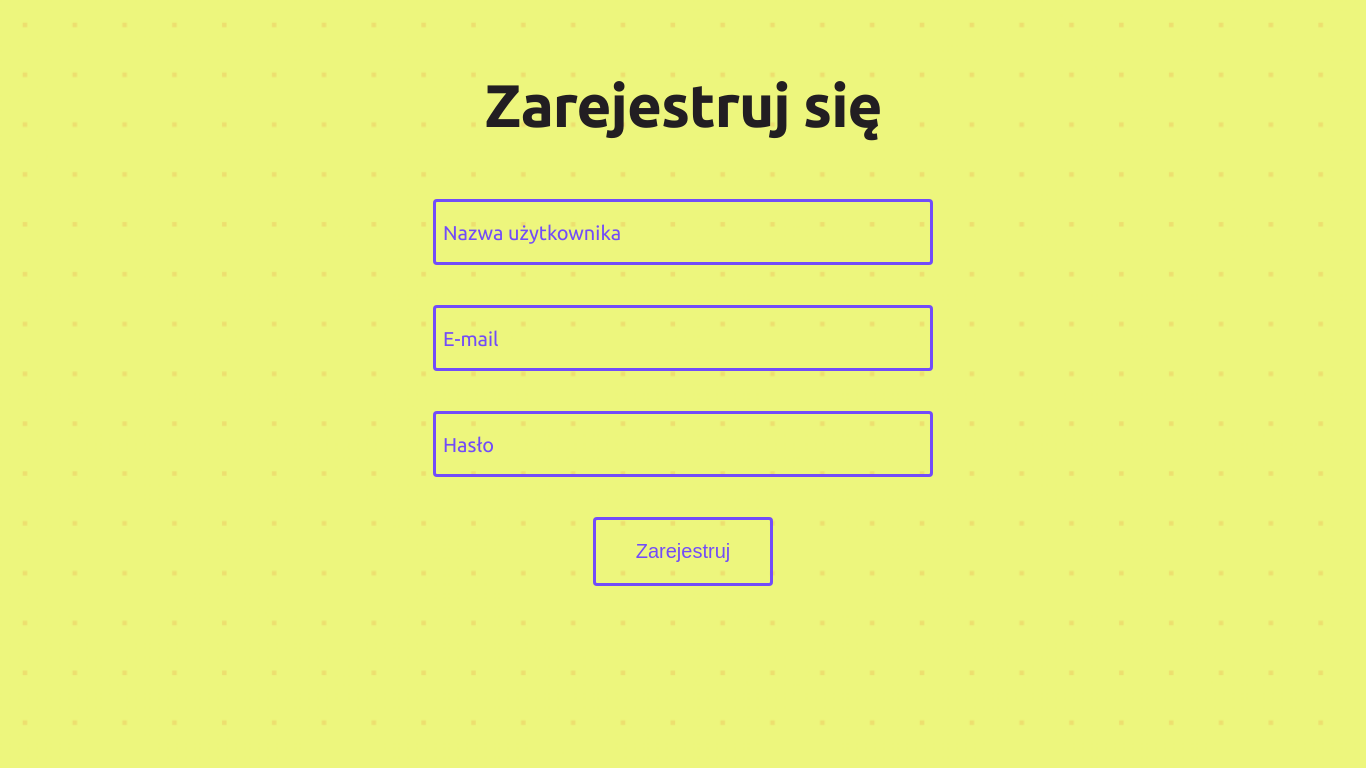
Test: Register Page › displays error message if registration fails
The width and height of the screenshot is (1366, 768).
Type "testUser" into the field named "nickname" at (683, 232), box [433,199,933,265]
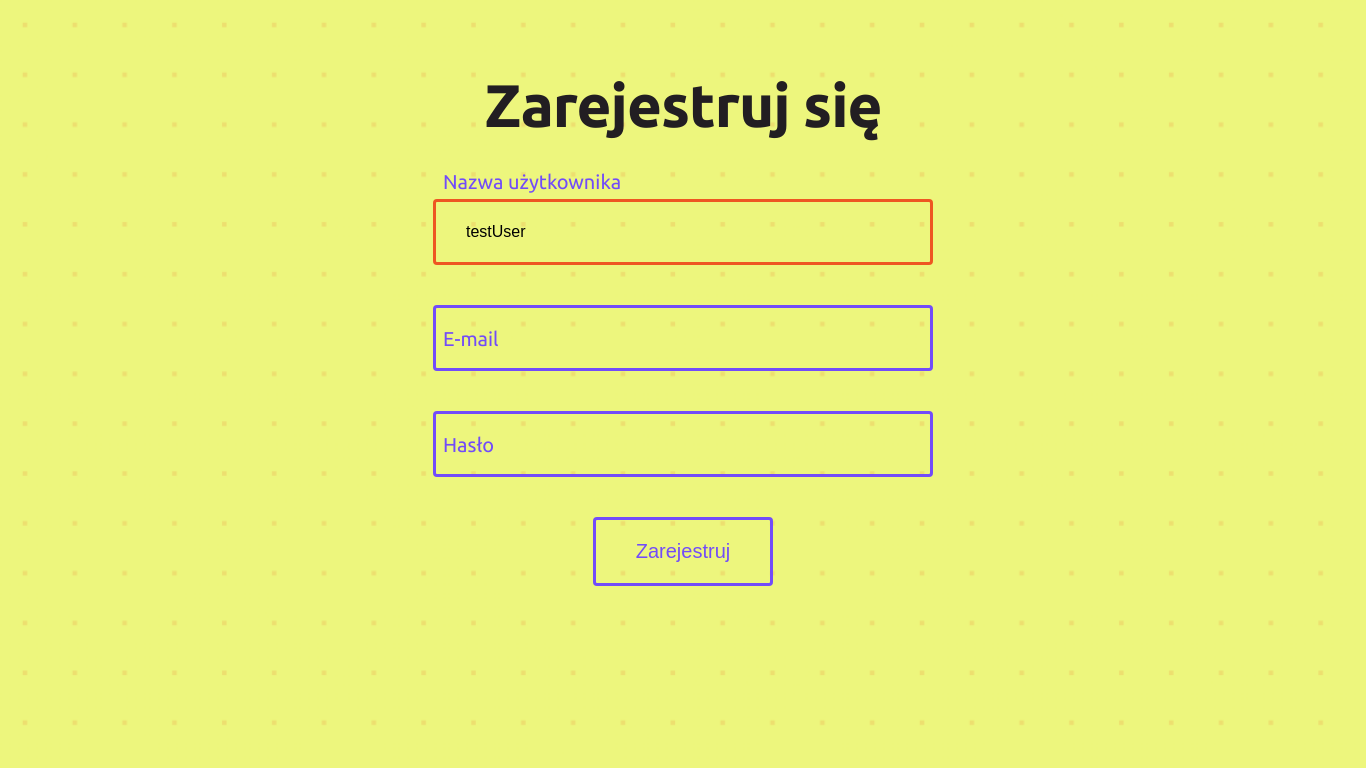
Type "test@example.com" into the field named "email" at (683, 338), box [433,305,933,371]
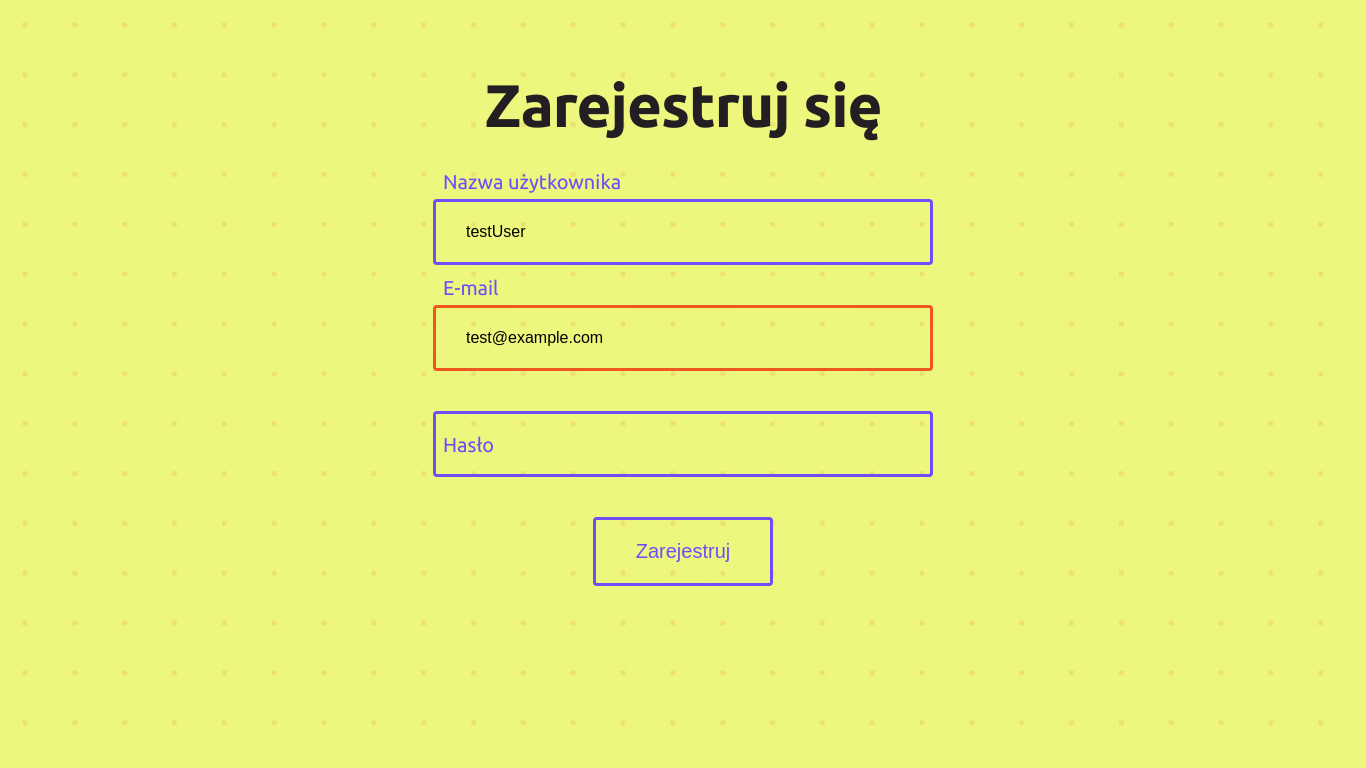
Type "testPassword" into the password field named "password" at (683, 444), box [433,411,933,477]
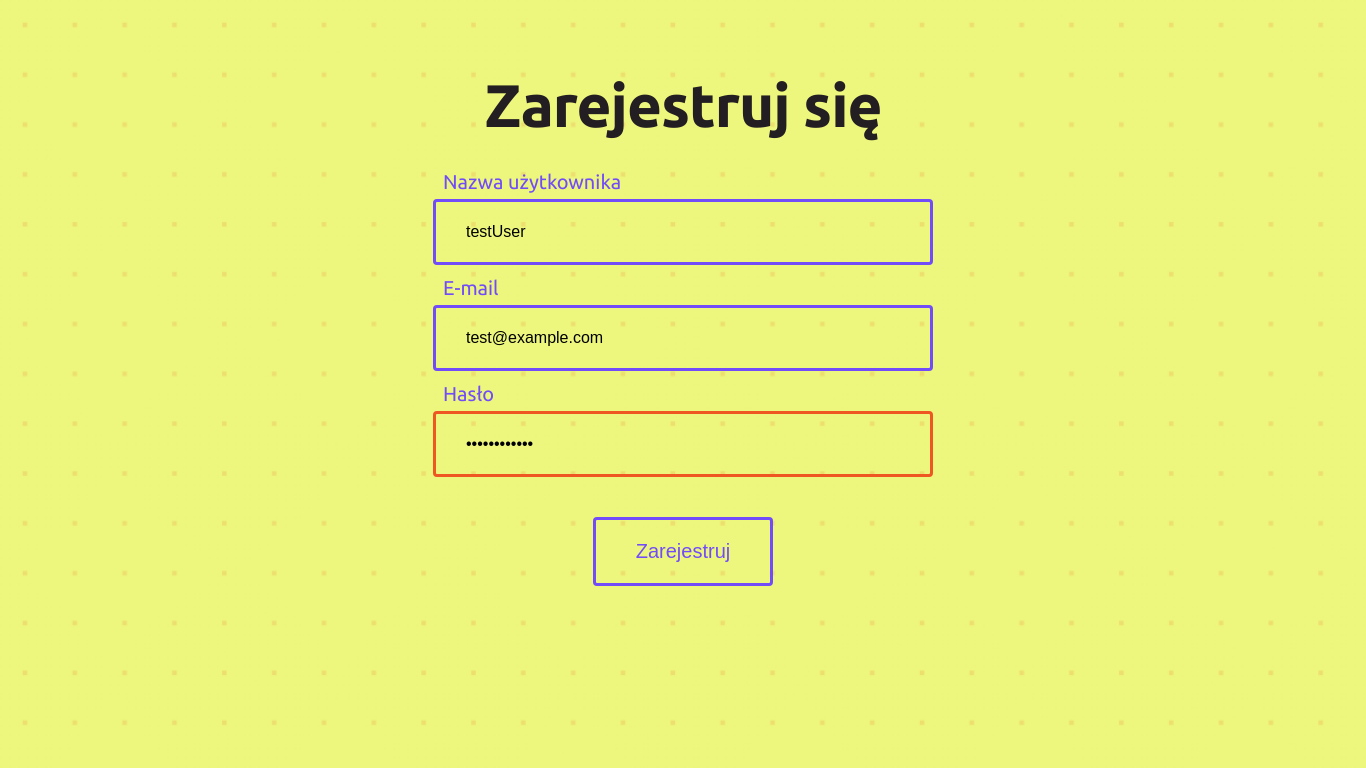
Click the submit button at (684, 552), box [593,517,774,586]
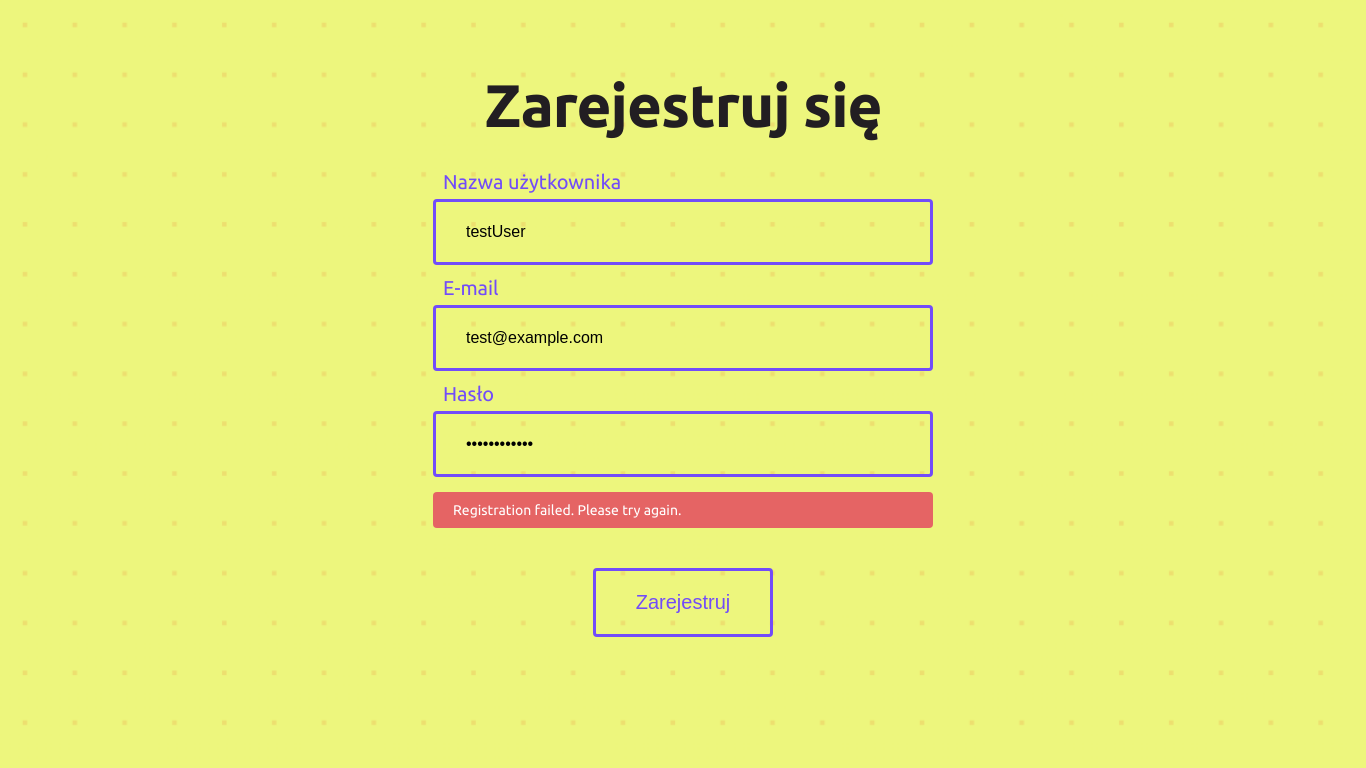
Check: the text "Registration failed. Please try again." is shown, box [433,492,933,528]
